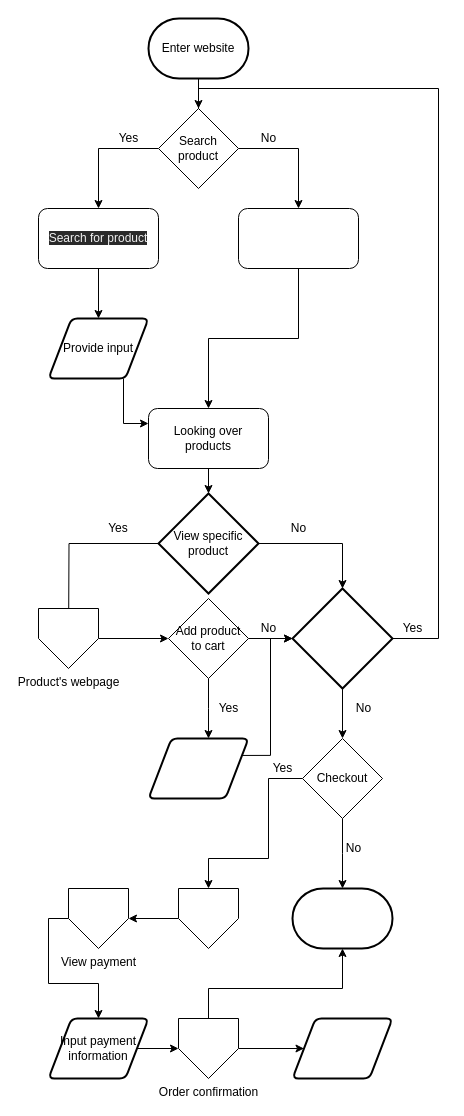
The diagram is 464 pixels wide and 1116 high, and some of its shapes have lost their labels. The centre of each missing label's shape, as x and y in pixels:
"Added-to-cart confirmation" goes at (x=198, y=768).
"Continue shopping" goes at (x=342, y=638).
"Email confirmation" goes at (x=342, y=1048).
"Eplore product" goes at (x=298, y=238).
"Leave website" goes at (x=342, y=918).
"View cart" goes at (x=208, y=918).
